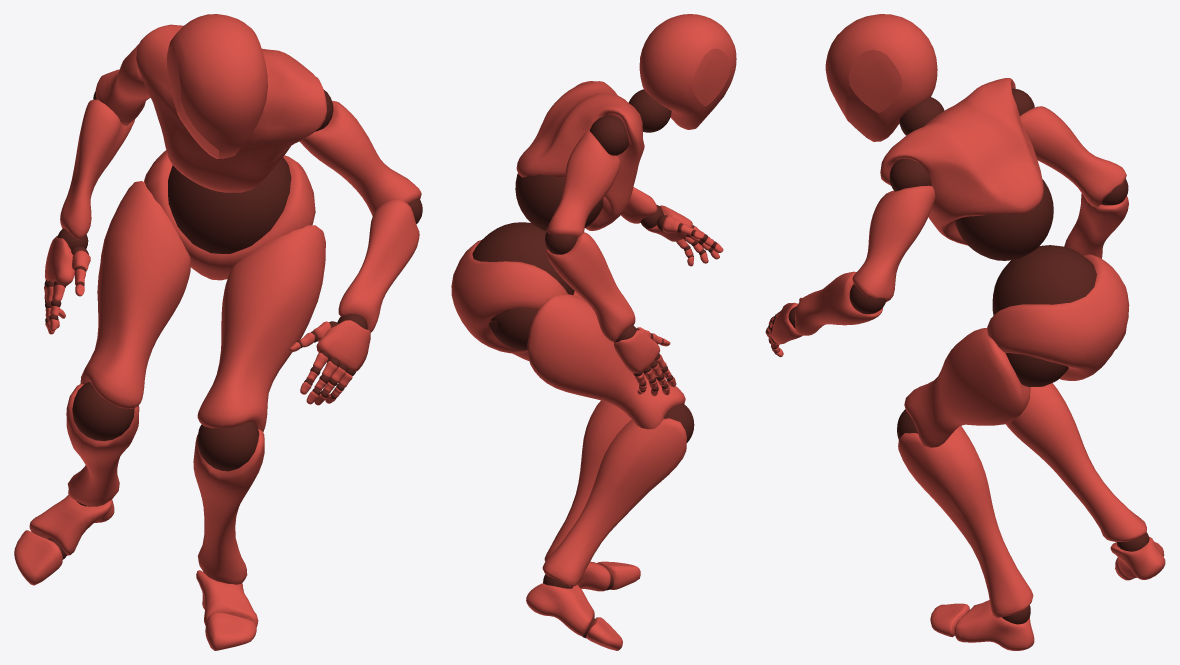
The picture shows the model from 3 angles, left to right: view 1: azimuth 30°, elevation 25°; view 2: azimuth 150°, elevation 25°; view 3: azimuth 270°, elevation 25°; orthographic projection. The views are drawn at different scales.
Parts seen in each view (by area): view 1: Beta_Surface, Beta_Joints; view 2: Beta_Surface, Beta_Joints; view 3: Beta_Surface, Beta_Joints.
Boxes of the visible parts, x1,y1,x2,y2 form: Beta_Surface: (14,14,421,650); Beta_Joints: (44,90,422,559); Beta_Surface: (451,14,736,650); Beta_Joints: (472,89,716,638); Beta_Surface: (765,14,1165,650); Beta_Joints: (766,88,1149,624).
Size of the model in its own units: 0.6055 by 1.43 by 0.8675.
